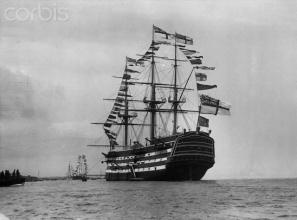fanchuan: (102, 26, 214, 180), (69, 154, 92, 184)
